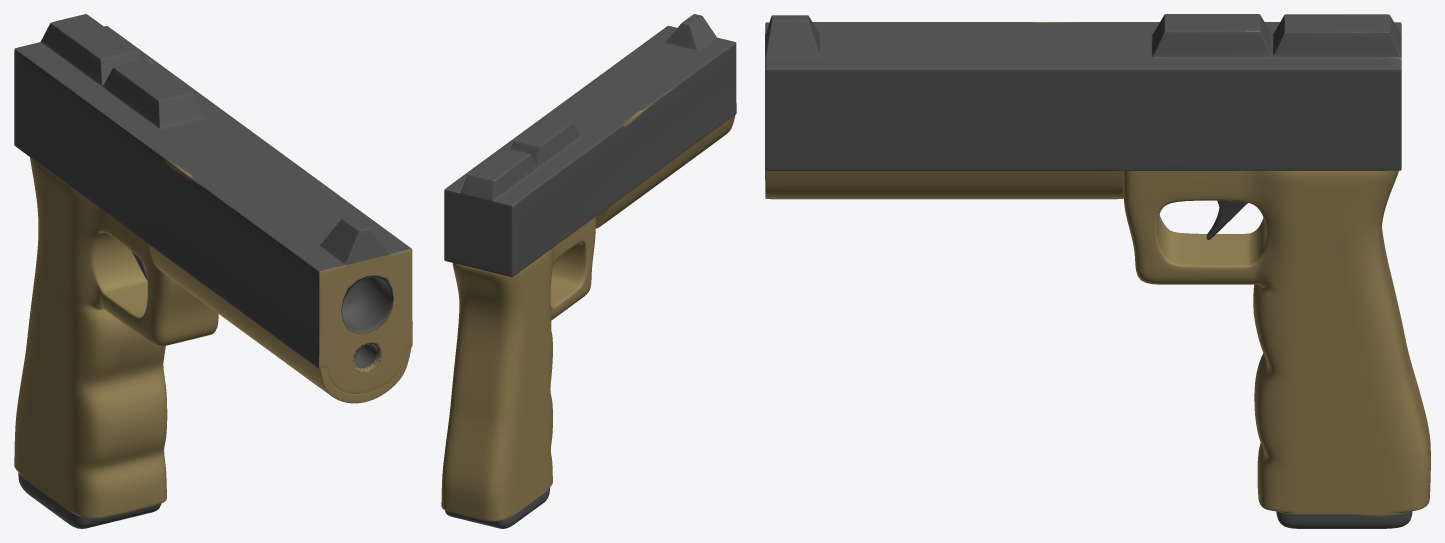
The model's file is pistola.fbx.
The picture shows the model from 3 angles, left to right: view 1: azimuth 30°, elevation 25°; view 2: azimuth 150°, elevation 25°; view 3: azimuth 270°, elevation 25°; orthographic projection. The views are drawn at different scales.
Parts seen in each view (by area): view 1: pistola; view 2: pistola; view 3: pistola.
Part boxes in pixels (left/top/right/bottom): pistola: left=14, top=14, right=412, bottom=528; pistola: left=441, top=14, right=736, bottom=528; pistola: left=765, top=14, right=1430, bottom=528.
Size of the model in its own units: 4.18 by 19.91 by 24.4.
Materials: 1 (1 with a texture image).
